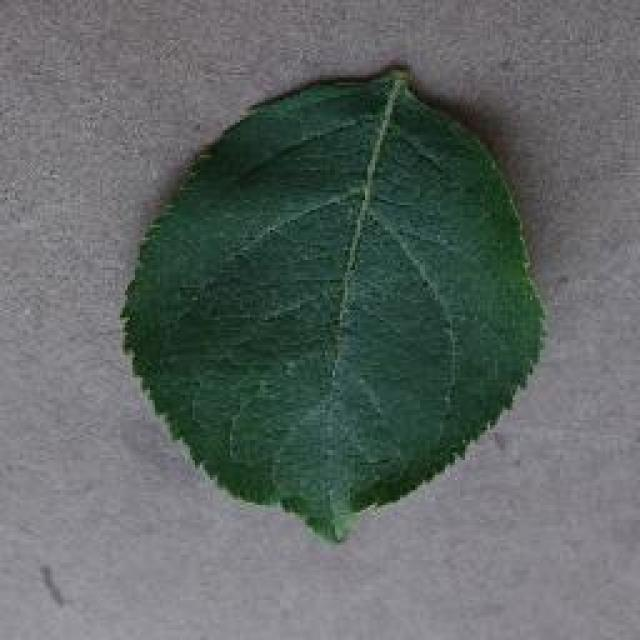apple healthy: (118, 62, 548, 542)
